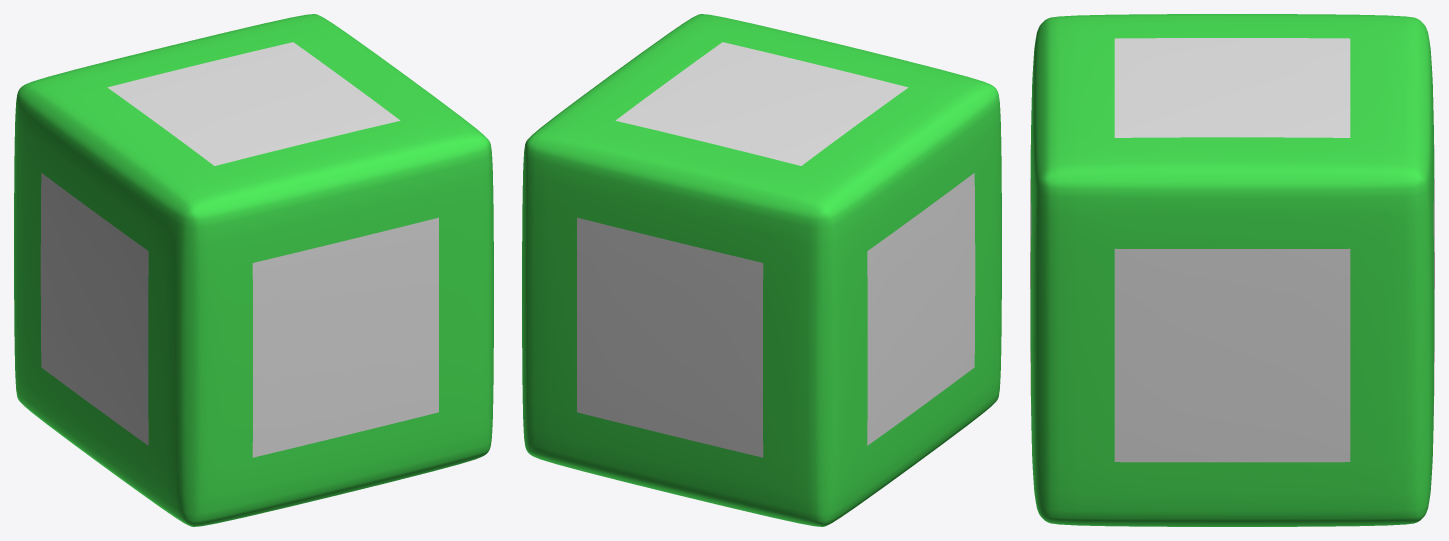
The model's file is PaintedCube.fbx.
3 renders of one model, left to right at view 1: azimuth 30°, elevation 25°; view 2: azimuth 150°, elevation 25°; view 3: azimuth 270°, elevation 25°, orthographic. The views are drawn at different scales.
Visible parts, largest first — view 1: Cube.004; view 2: Cube.004; view 3: Cube.004.
Part boxes in pixels (bbox=[...]): Cube.004: bbox=[14, 14, 493, 526]; Cube.004: bbox=[522, 14, 1001, 526]; Cube.004: bbox=[1030, 14, 1434, 526].
Bounding box in the file's own units: 99.79 × 99.79 × 99.79.
